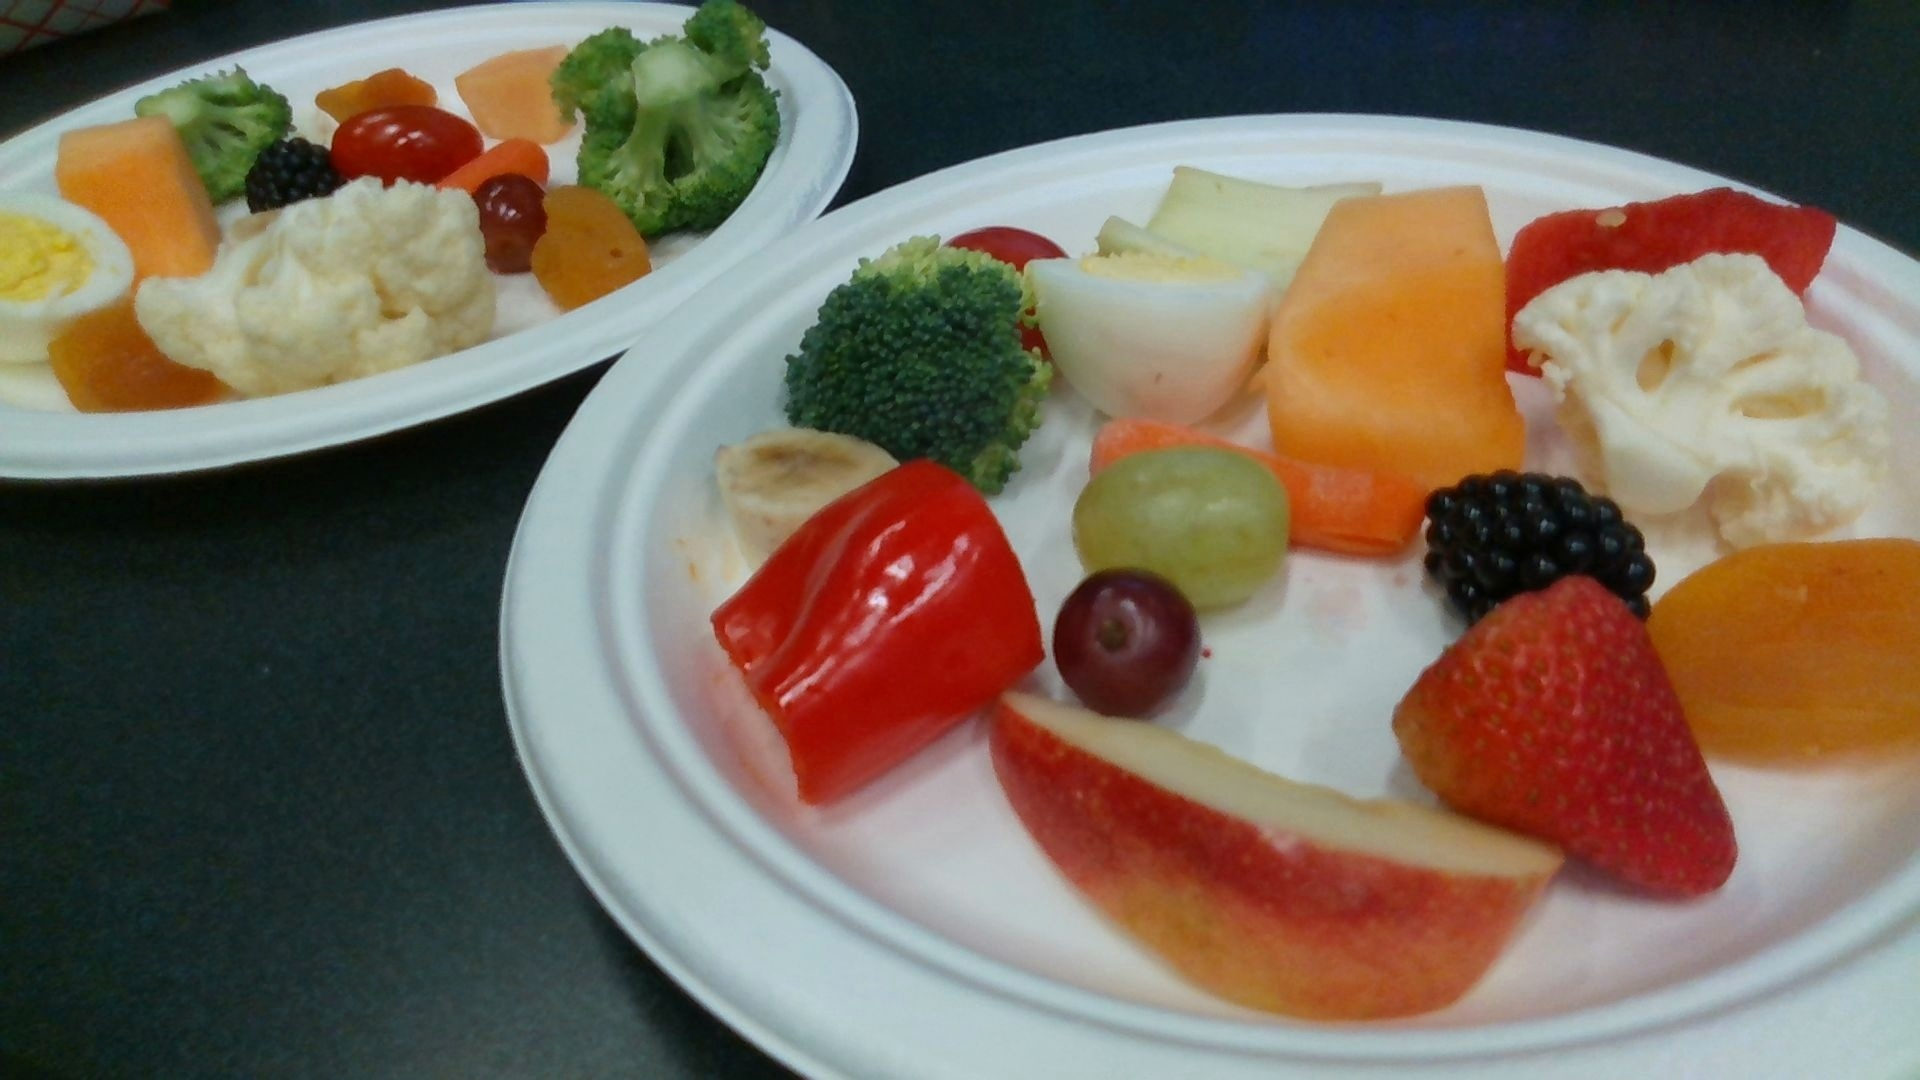apple: (990, 688, 1564, 1015)
apricot: (1647, 545, 1920, 771), (47, 306, 218, 410), (534, 190, 650, 309)
banana: (713, 430, 897, 543)
bell_pepper: (715, 458, 1044, 800)
blackberry: (1429, 471, 1654, 628)
broccoli: (789, 237, 1044, 488), (554, 3, 777, 225), (137, 70, 291, 200)
cantalope: (1269, 189, 1524, 481), (57, 120, 218, 280), (458, 46, 579, 140)
carrot: (1092, 418, 1424, 556)
cauliflower: (1515, 256, 1899, 543), (135, 179, 497, 381)
celery: (1097, 164, 1385, 258)
cherry_tomato: (330, 109, 484, 186)
egg: (1025, 256, 1274, 425), (1, 190, 135, 359)
grape_green: (1069, 446, 1288, 608)
grape_purple: (1054, 570, 1197, 716)
melon: (1507, 191, 1834, 373)
strawberry: (1395, 580, 1739, 893)
